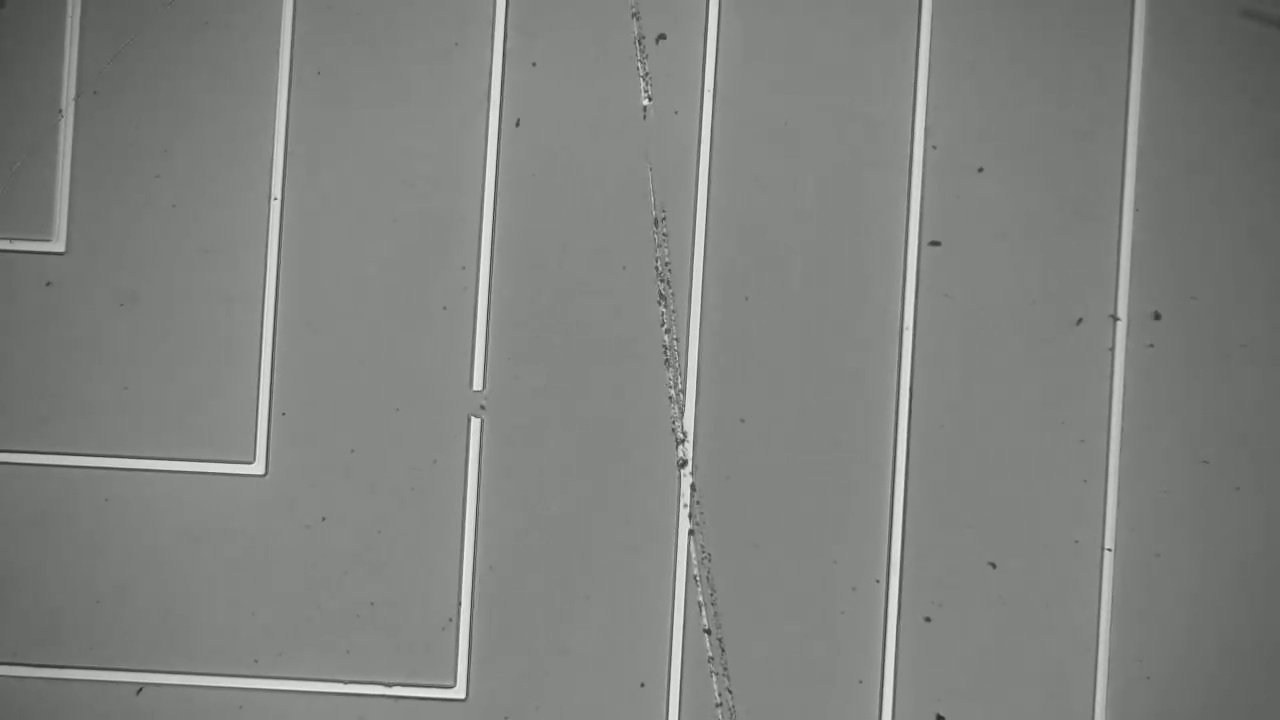open: (444, 366, 499, 440)
scratch: (623, 6, 746, 720)
